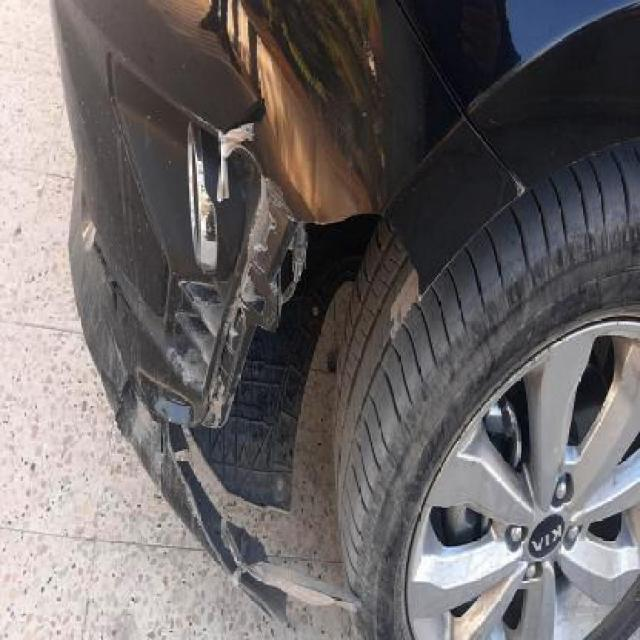car damage: (177, 101, 271, 284)
